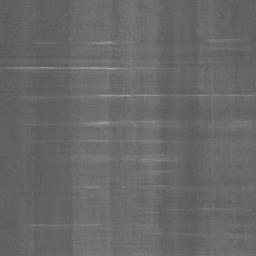Waist folding: (25, 92, 256, 164), (0, 39, 177, 72), (82, 231, 256, 254), (199, 37, 256, 52), (85, 184, 190, 191), (30, 222, 102, 228), (192, 206, 236, 211), (36, 40, 56, 46), (235, 117, 256, 122)
